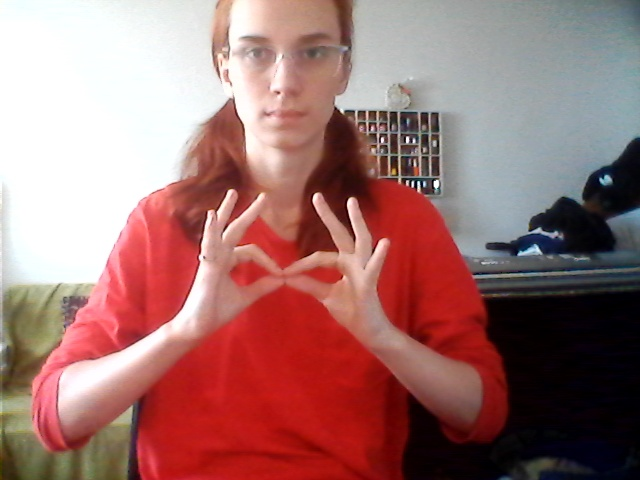b: (188, 185, 394, 341)
